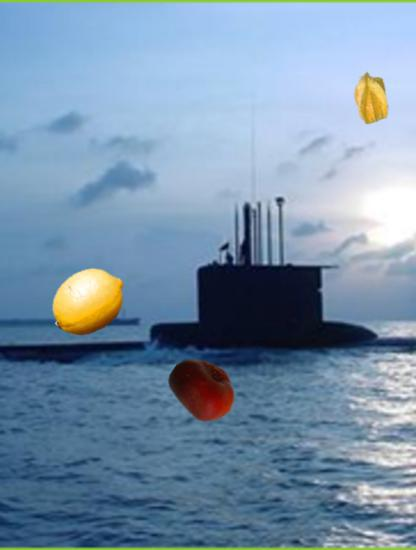Lemon: (49, 263, 128, 342)
Nectarine: (167, 354, 238, 425)
Physalis: (344, 71, 397, 124)
